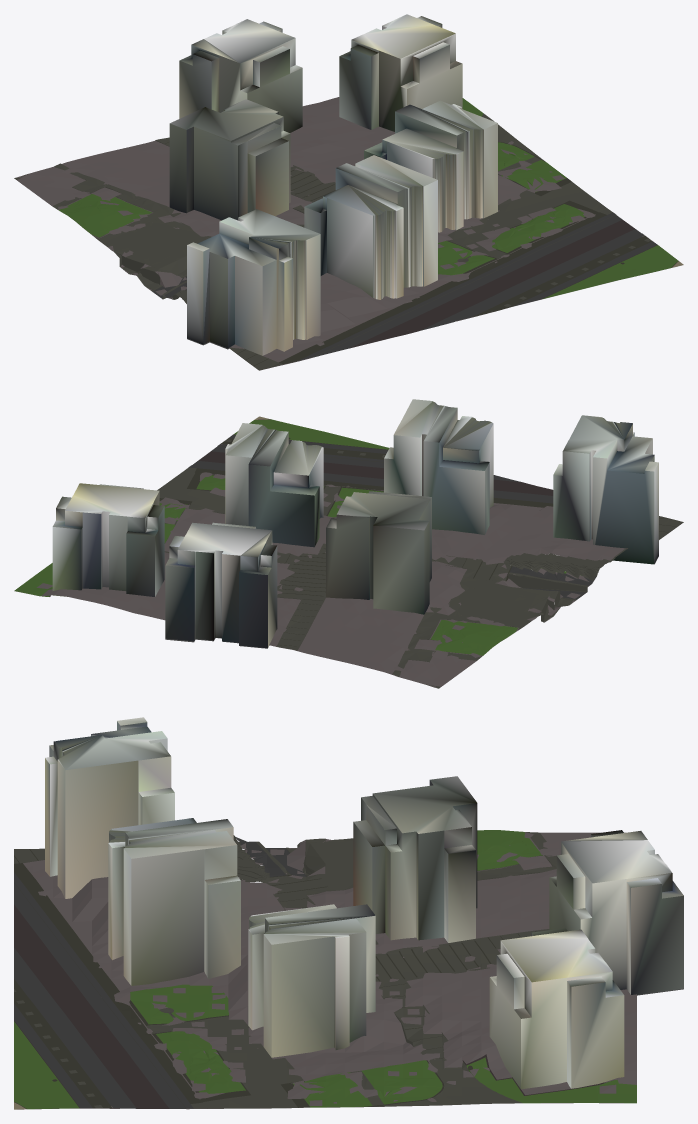
3 views of the same model, one above another, from view 1: azimuth 30°, elevation 25°; view 2: azimuth 150°, elevation 25°; view 3: azimuth 270°, elevation 25° (orthographic). The views are drawn at different scales.
Visible parts, largest first — view 1: c_m09_p12; view 2: c_m09_p12; view 3: c_m09_p12.
Boxes of the visible parts, x1=… form: c_m09_p12: x1=14, y1=14, x2=683, y2=370; c_m09_p12: x1=14, y1=399, x2=683, y2=688; c_m09_p12: x1=14, y1=717, x2=683, y2=1109.
Bounding box in the file's own units: 134 × 29.68 × 138.
